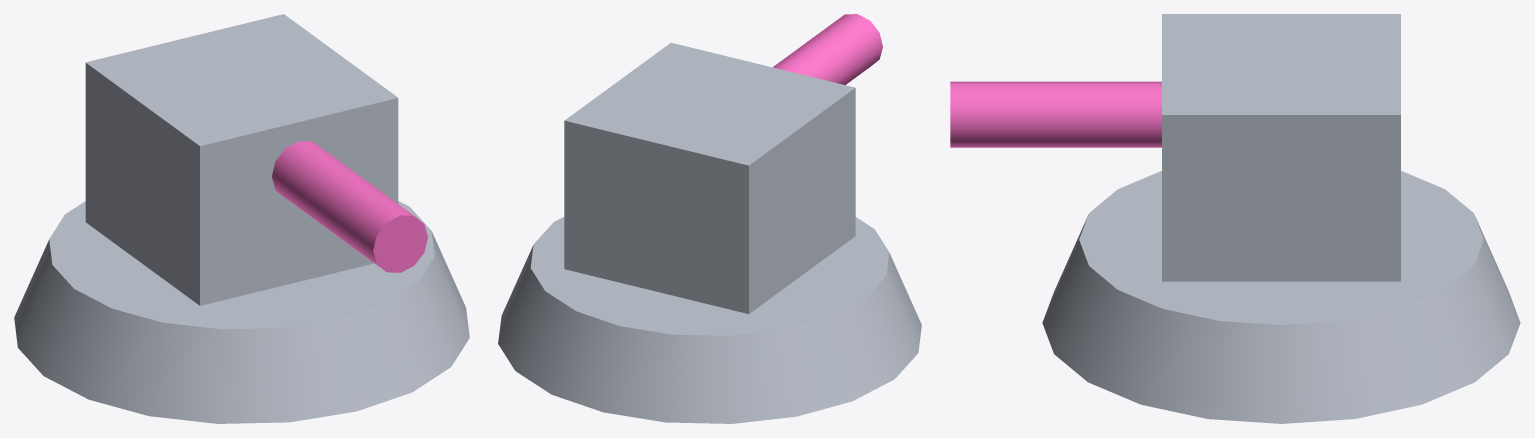
The model's file is mech_turret.glb.
3 views of the same model, side by side, from view 1: azimuth 30°, elevation 25°; view 2: azimuth 150°, elevation 25°; view 3: azimuth 270°, elevation 25° (orthographic). The views are drawn at different scales.
Size of the model in its own units: 2.6 by 1.55 by 3.1.
